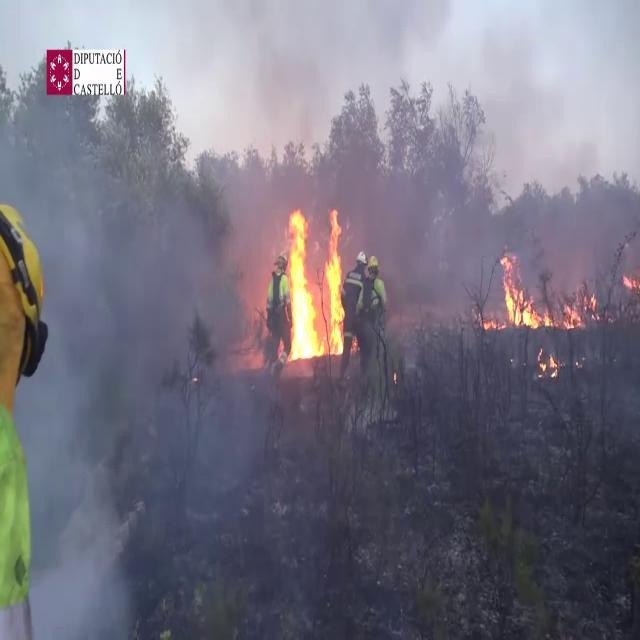Fire: (282, 200, 350, 362), (493, 254, 542, 332), (538, 342, 560, 378)
Smoke: (9, 76, 272, 626), (368, 93, 506, 347)
